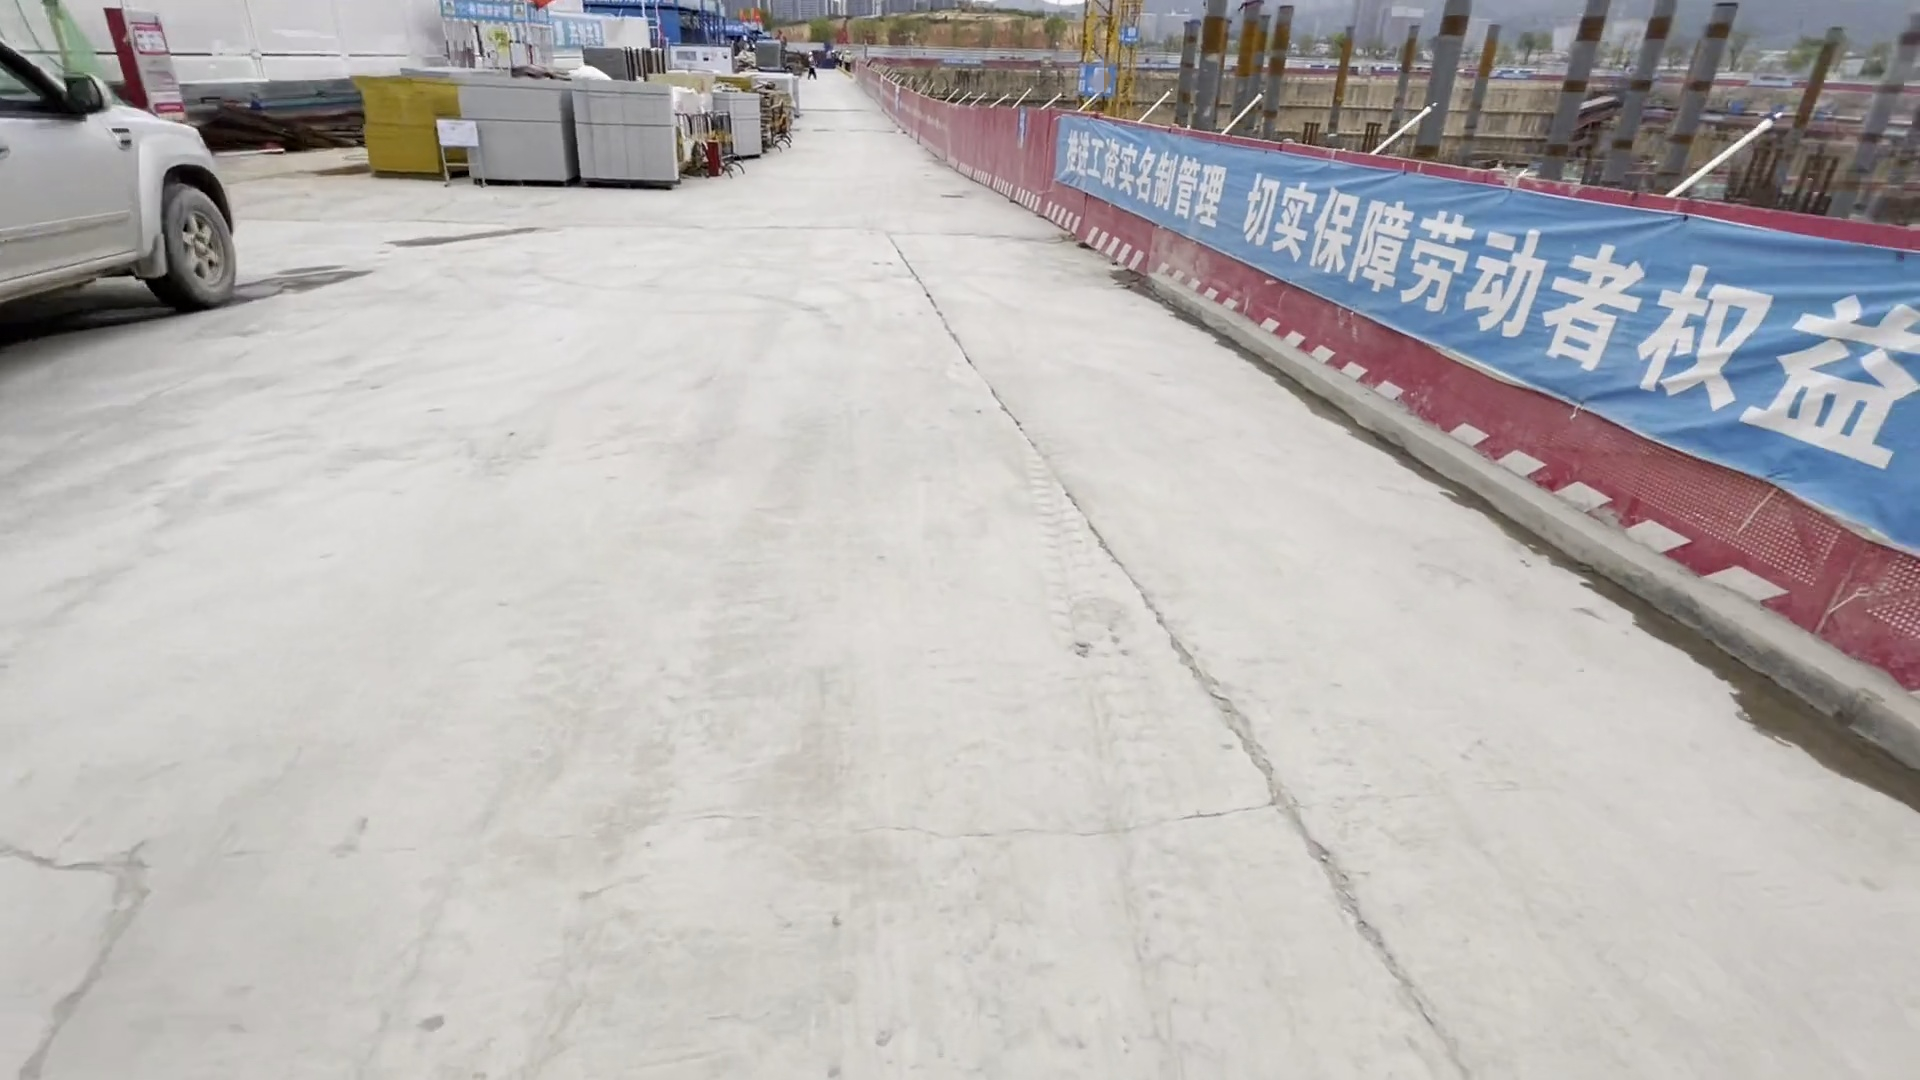board: (342, 69, 455, 187)
brick: (444, 70, 698, 190), (709, 87, 764, 161)
fence: (839, 59, 1920, 729)
slogan: (1044, 117, 1920, 530)
